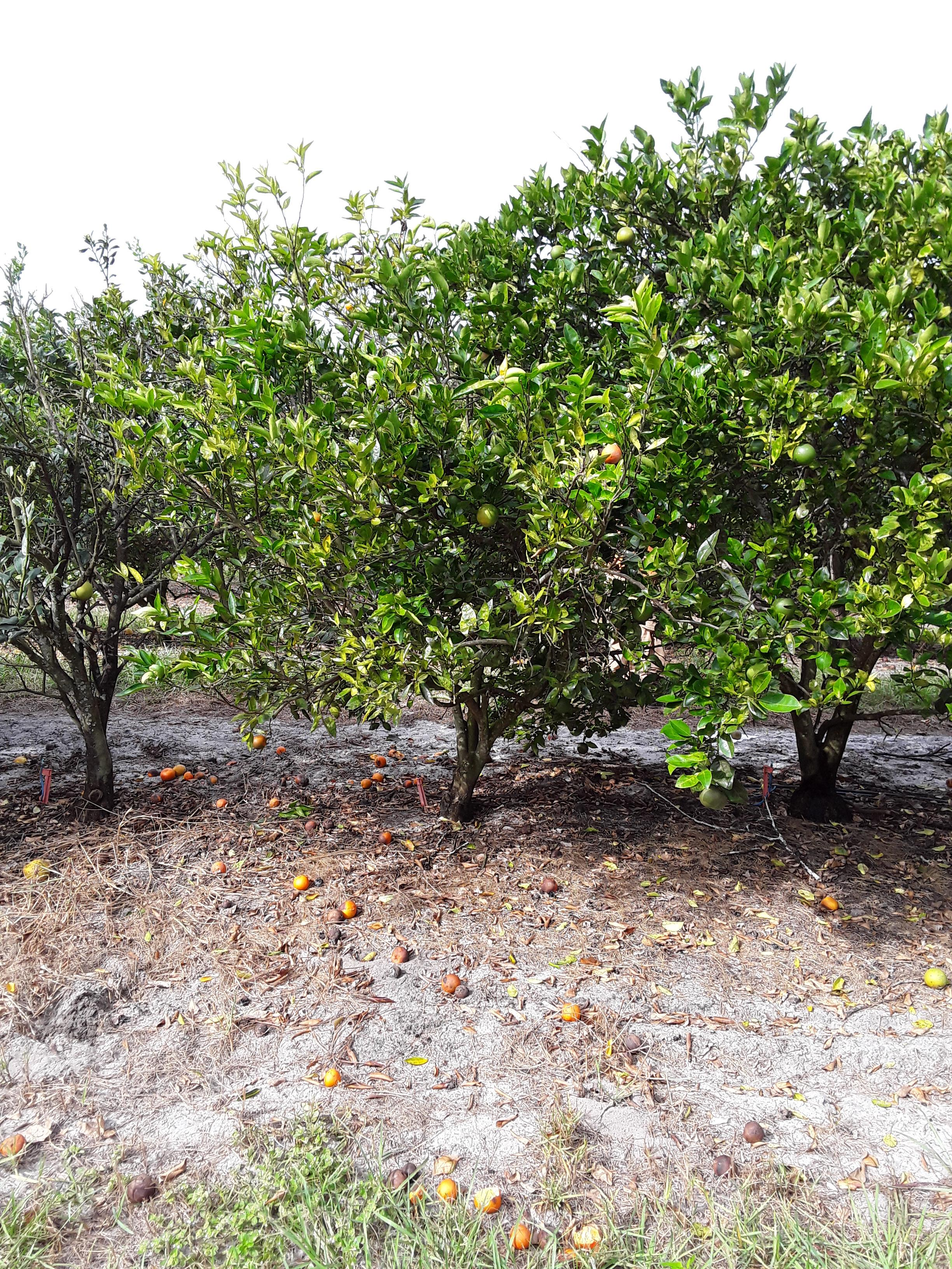fruit_on_ground: (695, 781, 732, 815), (473, 497, 503, 526), (789, 441, 822, 464), (771, 596, 797, 620), (632, 598, 655, 624), (602, 441, 623, 469), (74, 577, 95, 601), (616, 223, 636, 247), (724, 340, 749, 358), (550, 243, 570, 262), (553, 697, 573, 715), (621, 679, 639, 698), (576, 743, 590, 753)
fruit_on_tree: (125, 1173, 161, 1207), (568, 1221, 608, 1247), (471, 1188, 509, 1214), (22, 856, 56, 884), (0, 1129, 30, 1159), (435, 1177, 464, 1206), (398, 1157, 426, 1187), (536, 1224, 566, 1251), (509, 1219, 536, 1248), (557, 1245, 588, 1269), (741, 1119, 767, 1143), (922, 966, 949, 989), (385, 1169, 409, 1193), (712, 1154, 738, 1175), (324, 1065, 346, 1089), (439, 972, 462, 994), (252, 1020, 275, 1042), (560, 1003, 584, 1024), (404, 1186, 430, 1205), (817, 895, 843, 912), (622, 1032, 643, 1052), (389, 947, 412, 965), (340, 900, 359, 920), (210, 859, 227, 879), (537, 878, 558, 894), (251, 732, 269, 750), (293, 772, 313, 788), (291, 875, 311, 891), (371, 769, 390, 785), (386, 747, 406, 762), (326, 928, 347, 942), (378, 830, 397, 845), (159, 766, 177, 781), (452, 983, 469, 998), (327, 911, 346, 924), (374, 754, 390, 769), (172, 762, 187, 777), (319, 819, 339, 830), (193, 768, 208, 780), (360, 778, 375, 790), (151, 790, 165, 802), (215, 797, 229, 809), (274, 745, 289, 756), (207, 773, 220, 785), (146, 767, 160, 778), (302, 821, 319, 830), (268, 797, 281, 808), (184, 771, 194, 781), (403, 778, 413, 788)
